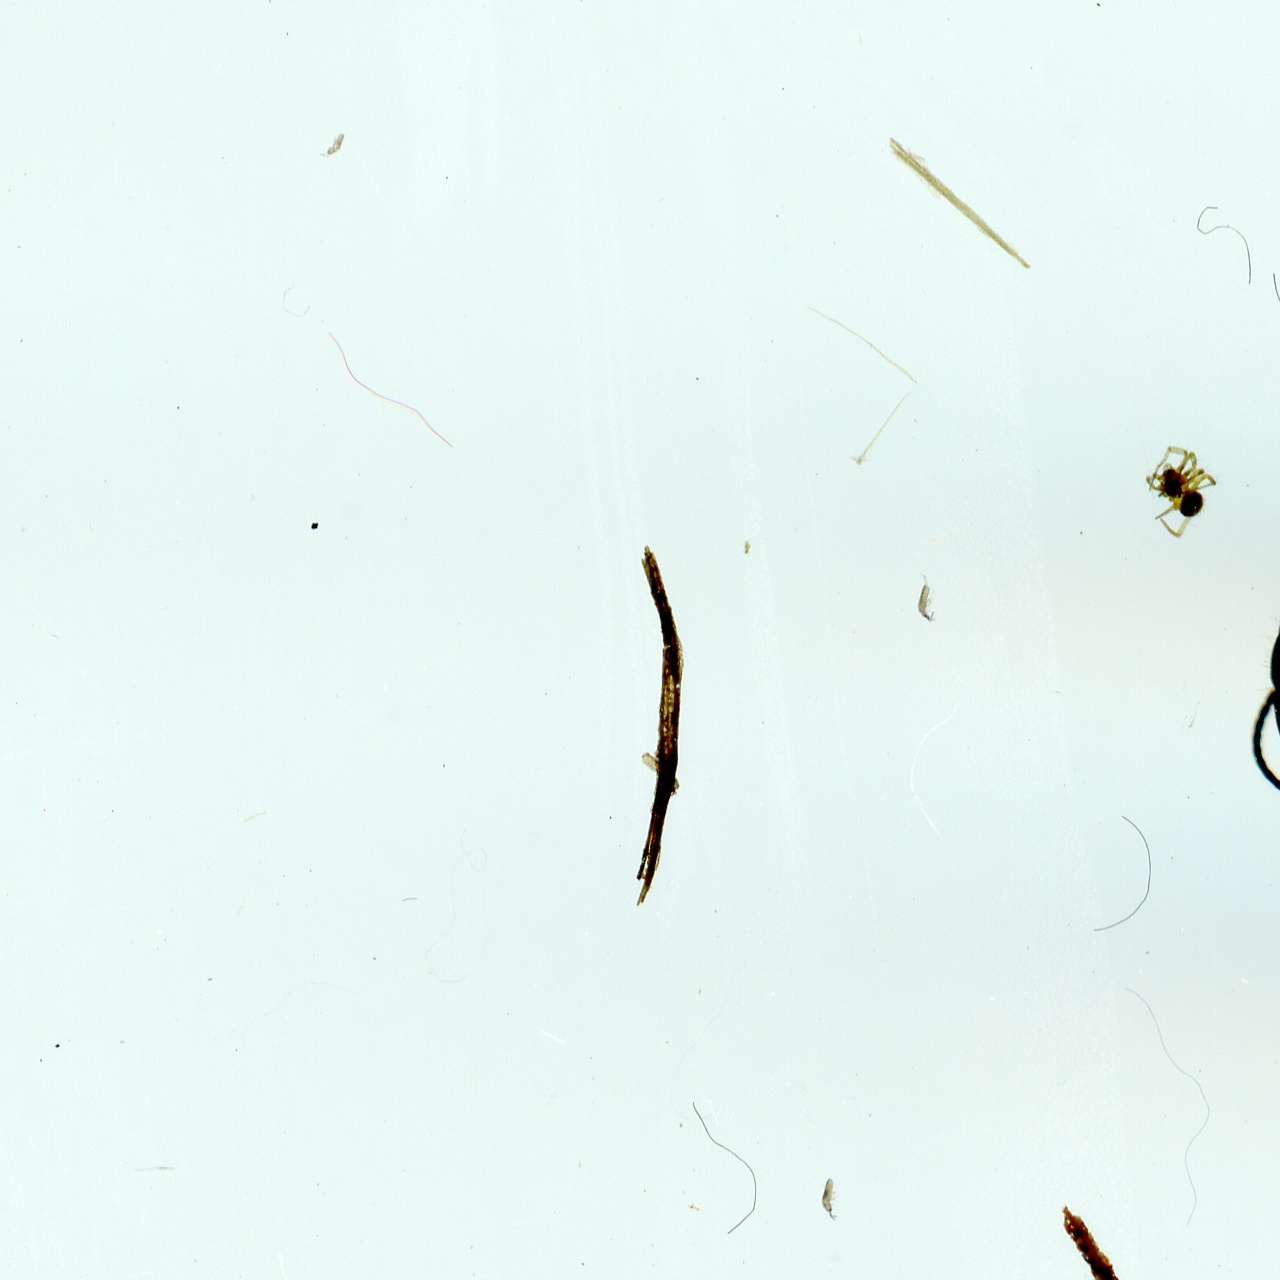arthropod: (1143, 443, 1219, 541), (914, 566, 942, 630), (818, 1175, 847, 1225), (315, 125, 352, 164), (283, 0, 318, 9)
